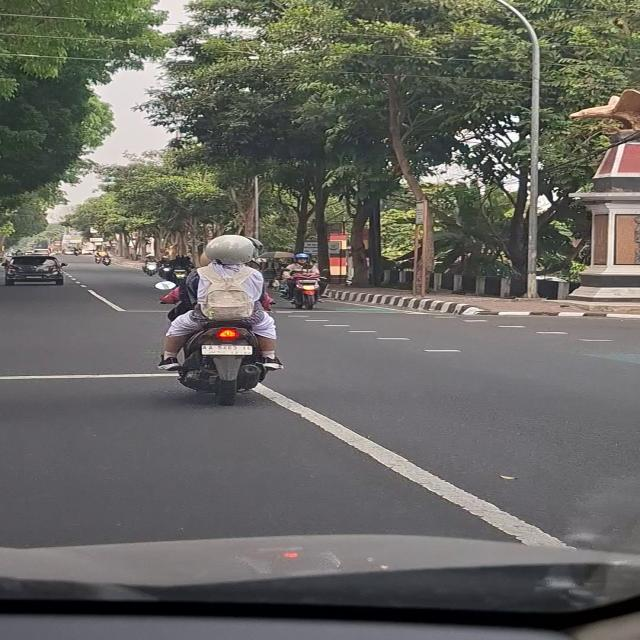WithHelmet: (157, 235, 283, 371), (276, 253, 326, 303), (160, 249, 198, 287), (142, 252, 167, 273)
